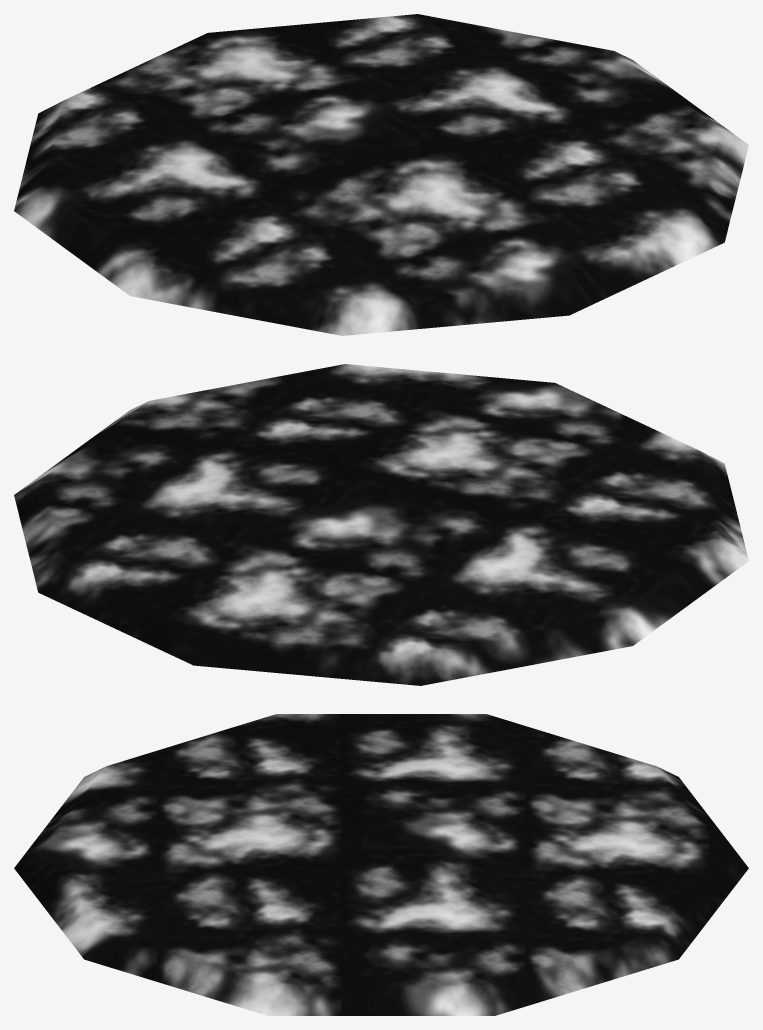
3 views of the same model, one above another, from view 1: azimuth 30°, elevation 25°; view 2: azimuth 150°, elevation 25°; view 3: azimuth 270°, elevation 25° (orthographic). The views are drawn at different scales.
Visible parts, largest first — view 1: Object73; view 2: Object73; view 3: Object73.
Boxes of the visible parts, x1,y1,x2,y2 form: Object73: [14, 14, 748, 335]; Object73: [14, 364, 748, 685]; Object73: [14, 714, 748, 1015].
Size of the model in its own units: 3543 by 197 by 3725.
